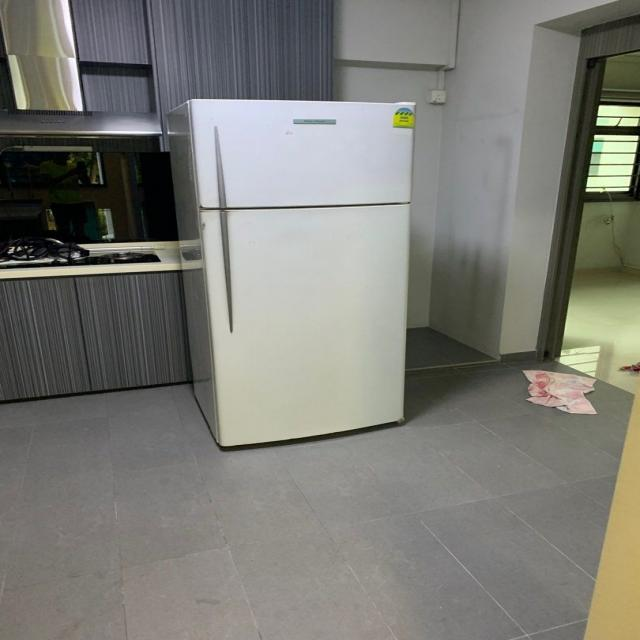refrigerator: (187, 98, 416, 450)
